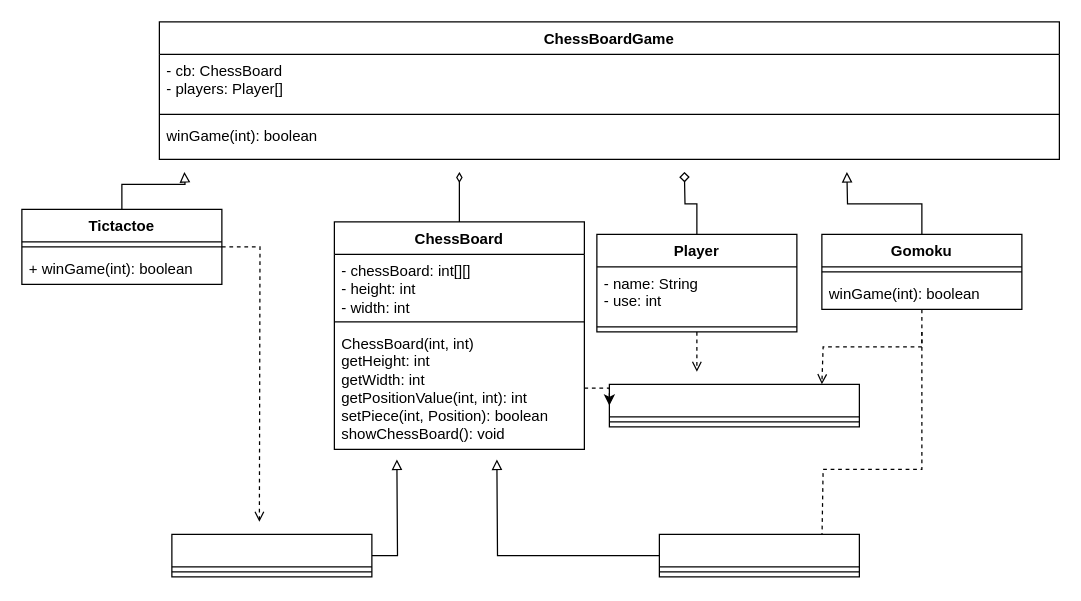
Some shapes in this 1081 by 601 pixel diagram are drawn without their labels. Each missing label, with the centre of its shape:
"GomokuChessBoard" belongs at (x=758, y=555).
"Position" belongs at (x=733, y=405).
"Tictactoe ChessBoard" belongs at (x=271, y=555).
